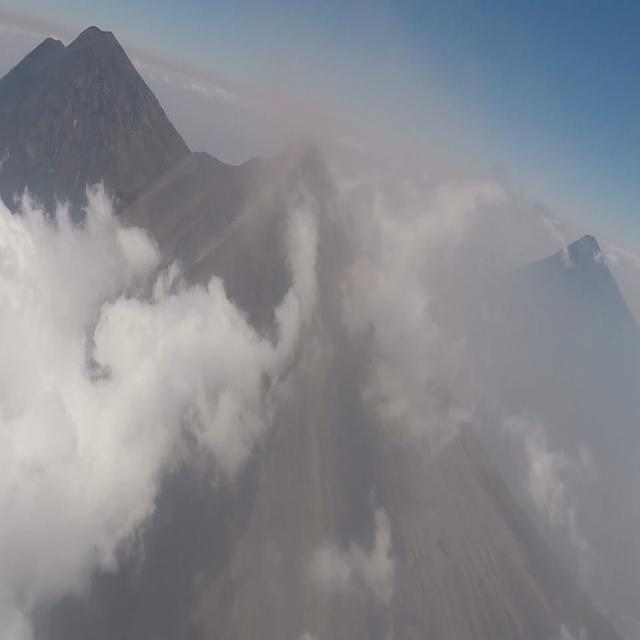Summit: (242, 125, 352, 221)
